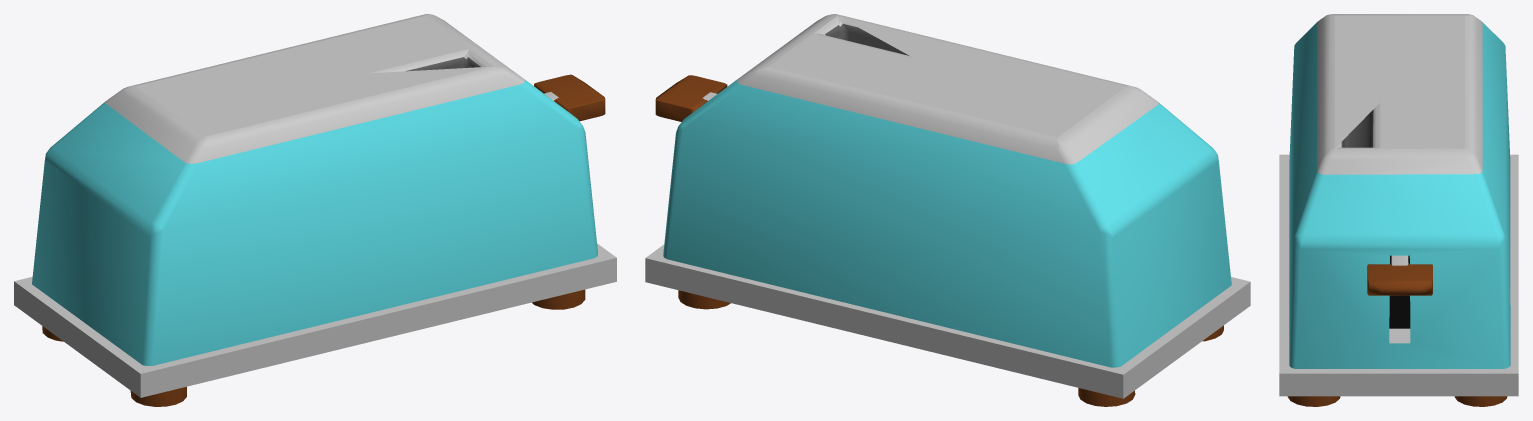
The model's file is tostadora.fbx.
3 renders of one model, left to right at view 1: azimuth 30°, elevation 25°; view 2: azimuth 150°, elevation 25°; view 3: azimuth 270°, elevation 25°, orthographic. The views are drawn at different scales.
Visible parts, largest first — view 1: Cubo, Cubo.001; view 2: Cubo, Cubo.001; view 3: Cubo, Cubo.001.
Part boxes in pixels (x1,y1,x2,y2): Cubo: [14, 14, 616, 406]; Cubo.001: [534, 74, 605, 121]; Cubo: [645, 14, 1250, 406]; Cubo.001: [655, 75, 727, 121]; Cubo: [1279, 14, 1518, 406]; Cubo.001: [1367, 255, 1432, 295].
Bounding box in the file's own units: 674 × 294 × 286.
